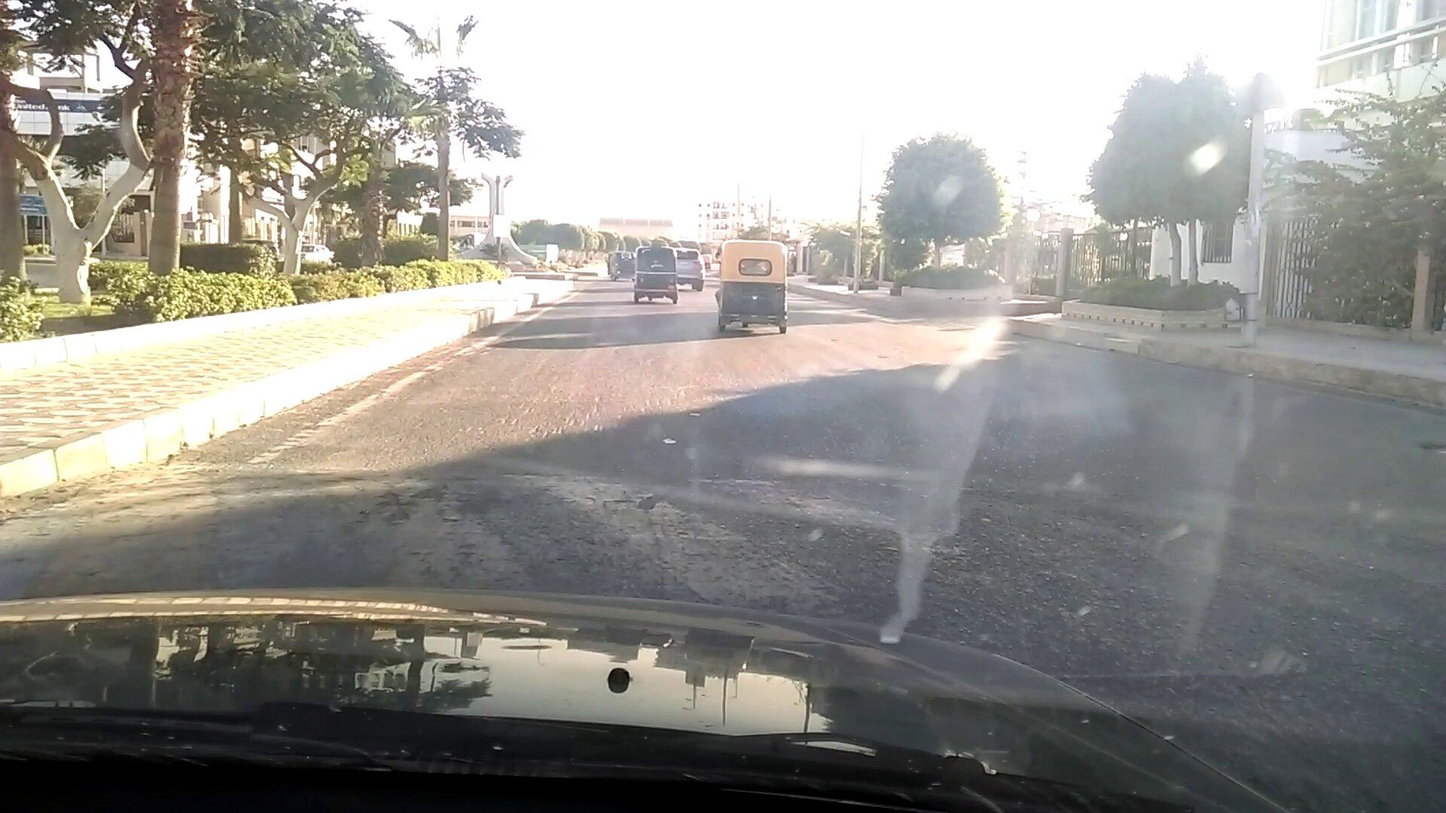Bump: (62, 461, 1435, 687)
